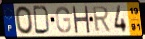4: (114, 4, 128, 34)
D: (32, 5, 51, 36)
G: (55, 6, 73, 35)
H: (71, 5, 91, 34)
O: (14, 6, 35, 36)
R: (91, 6, 112, 34)
